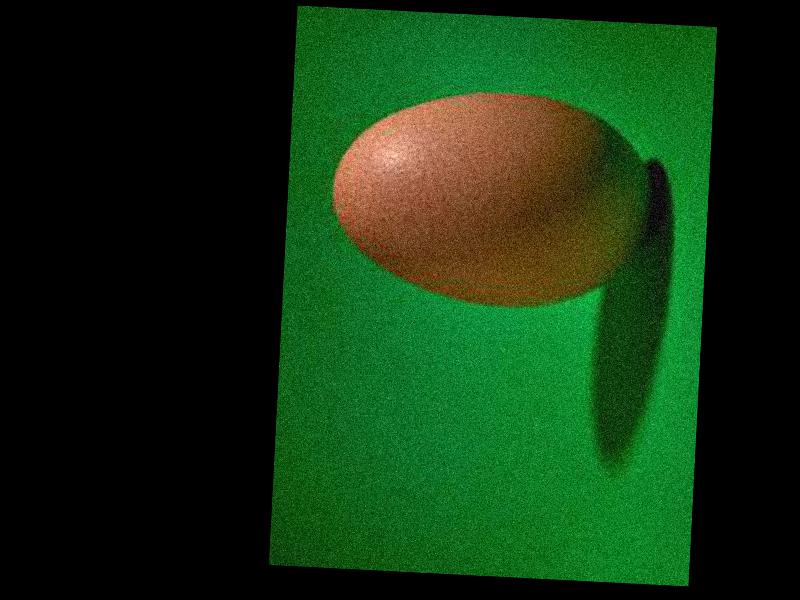Eggs: (328, 83, 658, 313)
